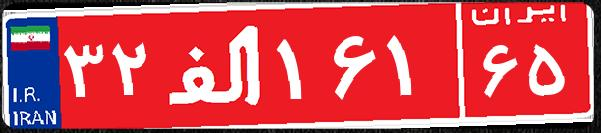1: (385, 28, 445, 110), (273, 28, 330, 110)
2: (110, 28, 158, 105)
3: (57, 26, 110, 107)
5: (525, 38, 570, 115)
6: (330, 28, 385, 110), (475, 38, 525, 113)
الف: (158, 15, 273, 115)
